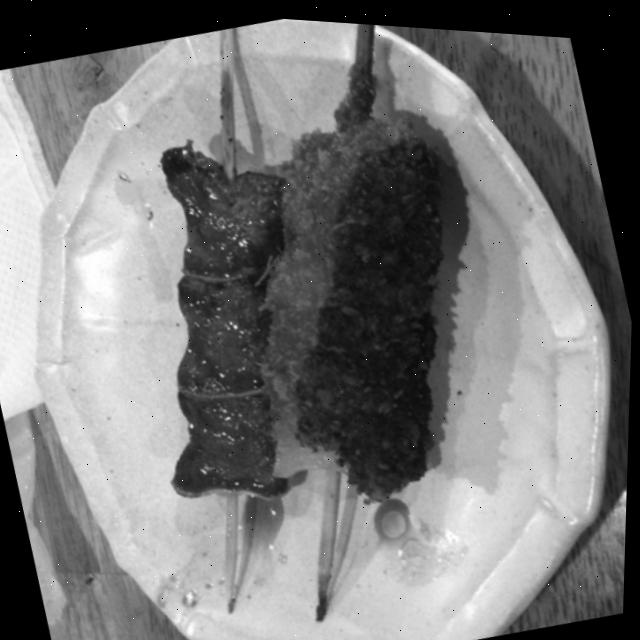米饭主食: (104, 234, 587, 633), (0, 79, 410, 446)
